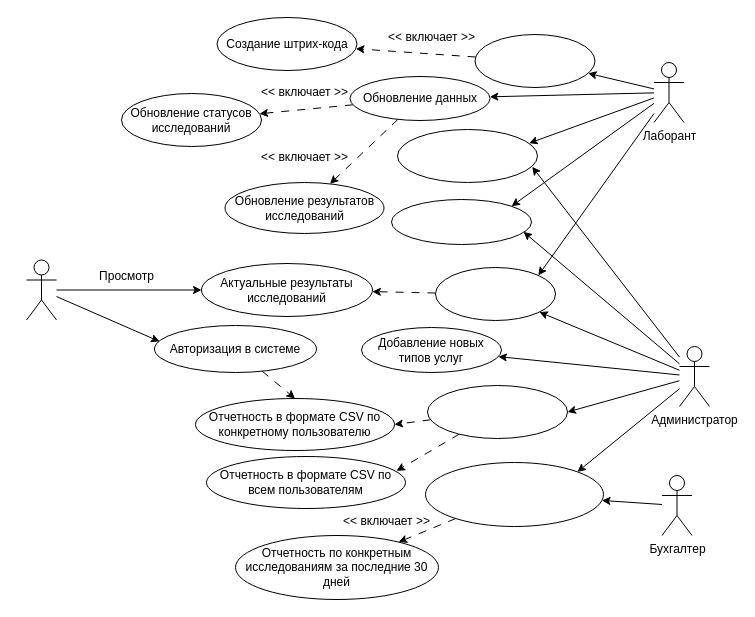
The diagram is 755 pixels wide and 617 high, and some of its shapes have lost their labels. Here are the shapes that lost their labels. From the top down, the centre of each, then its label:
At point 534,61: "Забор крови".
At point 467,155: "Просмотр всех исследований".
At point 461,221: "Просмотр всех типов услуг".
At point 41,289: "Пациент".
At point 495,293: "Создание заказа".
At point 497,411: "Просмотр всех авторизаций".
At point 514,494: "Отчетность по всем исследованиям за последние 30 дней".
